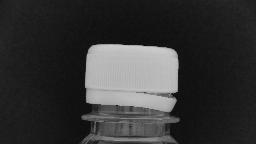Broken Ring: (128, 84, 180, 112)
